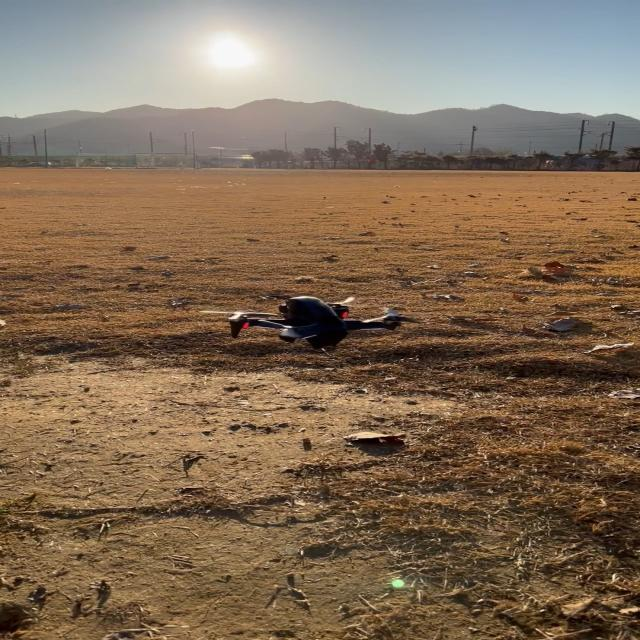Drone: (229, 294, 407, 349)
